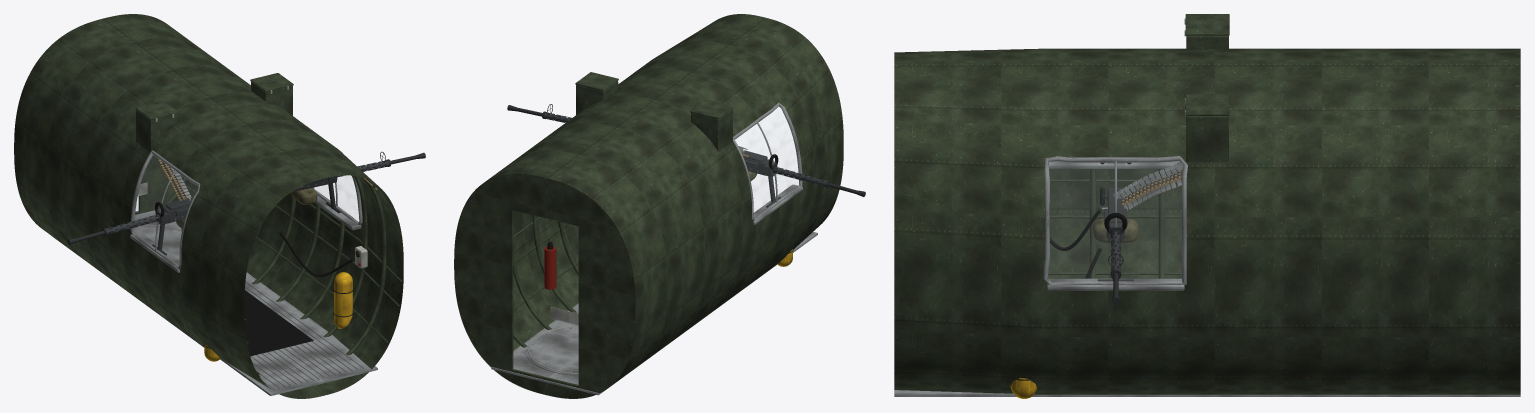
Rendered from b24-waist.glb.
3 views of the same model, side by side, from view 1: azimuth 30°, elevation 25°; view 2: azimuth 150°, elevation 25°; view 3: azimuth 270°, elevation 25° (orthographic). The views are drawn at different scales.
Parts seen in each view (by area): view 1: b24_skin_waist, b24_alu, b24_zinc, b24_pglass, b24_rubber, b24_olive, b24_gun, b24_yellowp, b24_jacket, b24_webbing; view 2: b24_skin_waist, b24_zinc, b24_alu, b24_pglass, b24_olive, b24_gun, b24_red, b24_jacket; view 3: b24_skin_waist, b24_pglass, b24_alu, b24_olive, b24_zinc, b24_gun, b24_rubber, b24_webbing.
Boxes of the visible parts, bbox=[...] form: b24_skin_waist: bbox=[14, 14, 403, 398]; b24_alu: bbox=[55, 148, 377, 395]; b24_zinc: bbox=[14, 14, 402, 376]; b24_pglass: bbox=[132, 154, 358, 266]; b24_rubber: bbox=[155, 199, 352, 356]; b24_olive: bbox=[135, 73, 293, 152]; b24_gun: bbox=[67, 151, 425, 255]; b24_yellowp: bbox=[204, 272, 352, 361]; b24_jacket: bbox=[106, 160, 388, 234]; b24_webbing: bbox=[176, 188, 317, 228]; b24_skin_waist: bbox=[454, 14, 843, 398]; b24_zinc: bbox=[454, 172, 637, 398]; b24_alu: bbox=[491, 102, 817, 395]; b24_pglass: bbox=[735, 106, 800, 218]; b24_olive: bbox=[575, 72, 733, 151]; b24_gun: bbox=[507, 104, 865, 207]; b24_red: bbox=[544, 246, 556, 289]; b24_jacket: bbox=[544, 112, 826, 186]; b24_skin_waist: bbox=[894, 48, 1520, 394]; b24_pglass: bbox=[1048, 160, 1183, 283]; b24_alu: bbox=[894, 156, 1520, 396]; b24_olive: bbox=[1185, 14, 1229, 162]; b24_zinc: bbox=[1048, 53, 1519, 394]; b24_gun: bbox=[1097, 170, 1182, 304]; b24_rubber: bbox=[1050, 162, 1131, 278]; b24_webbing: bbox=[1093, 162, 1138, 243].
Bounding box in the file's own units: 3.84 × 2.27 × 4.1.
17 materials, 9 textured.
